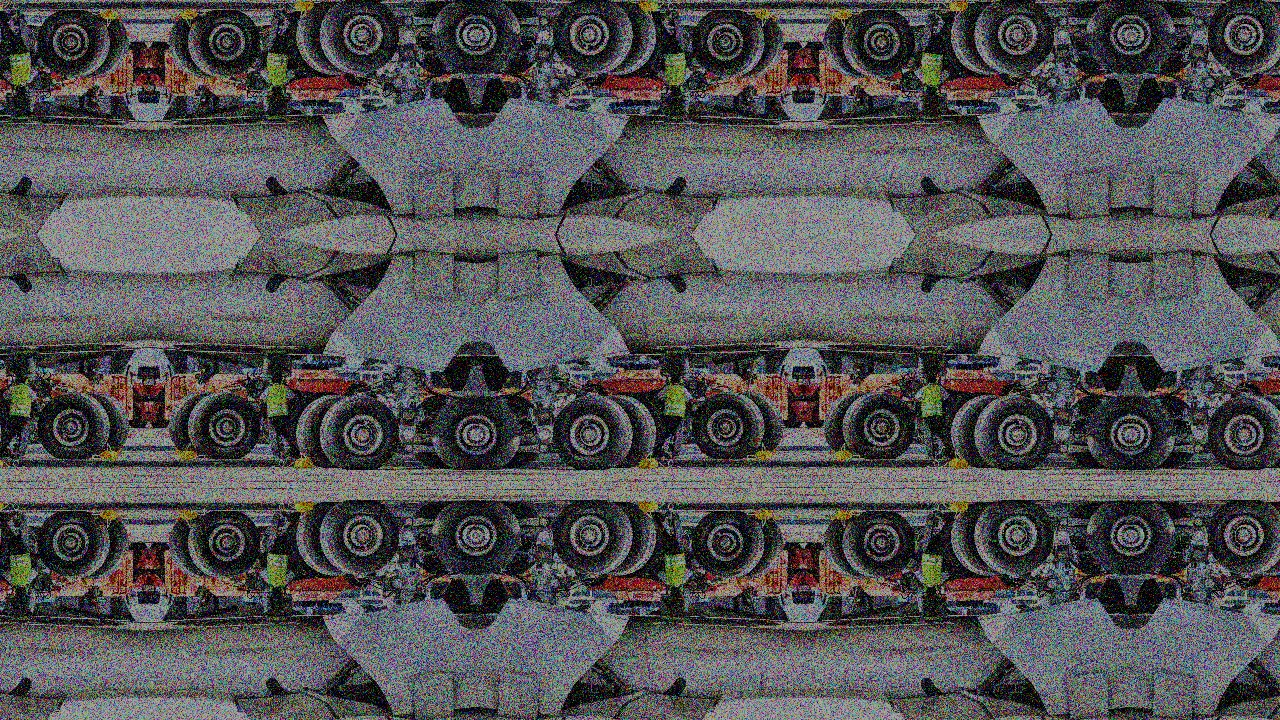chock: (948, 456, 970, 470), (948, 501, 970, 515), (293, 456, 314, 470), (638, 456, 659, 470), (293, 501, 314, 515), (638, 501, 659, 515), (948, 0, 970, 13), (293, 0, 314, 13), (638, 0, 659, 13), (98, 8, 118, 19), (834, 8, 854, 19), (98, 450, 118, 461), (834, 450, 854, 461), (98, 510, 118, 521), (834, 510, 854, 521), (179, 8, 198, 19), (754, 8, 773, 19), (179, 450, 198, 461), (754, 450, 773, 461), (179, 510, 198, 521), (754, 510, 773, 521), (0, 456, 4, 470), (0, 501, 4, 515), (0, 0, 4, 13)
wheel: (316, 502, 399, 577), (553, 502, 636, 577), (971, 502, 1054, 577), (316, 1, 399, 75), (553, 1, 636, 75), (971, 1, 1054, 75), (316, 394, 399, 468), (553, 394, 636, 468), (971, 394, 1054, 468), (1209, 502, 1280, 577), (1209, 1, 1280, 75), (1209, 394, 1280, 468), (36, 512, 109, 580), (187, 512, 260, 580), (692, 512, 765, 580), (843, 512, 916, 580), (36, 11, 109, 78), (187, 11, 260, 78), (692, 11, 765, 78), (843, 11, 916, 78), (36, 391, 109, 458), (187, 391, 260, 458), (692, 391, 765, 458), (843, 391, 916, 458), (949, 3, 1009, 76), (949, 394, 1009, 467), (949, 504, 1009, 577), (294, 3, 353, 76), (599, 3, 658, 76), (294, 394, 353, 467), (599, 394, 658, 467), (294, 504, 353, 577), (599, 504, 658, 577), (412, 394, 460, 468), (492, 394, 540, 468), (1067, 394, 1115, 468), (1148, 394, 1196, 468), (412, 2, 460, 75), (492, 2, 540, 75), (1067, 2, 1115, 75), (1148, 2, 1196, 75), (412, 503, 460, 576), (492, 503, 540, 576), (1067, 503, 1115, 576), (1148, 503, 1196, 576), (429, 503, 476, 576), (476, 503, 523, 576), (1131, 503, 1178, 576), (429, 2, 476, 74), (476, 2, 523, 74), (1131, 2, 1178, 74), (429, 395, 476, 467), (476, 395, 523, 467), (1131, 395, 1178, 467), (1085, 503, 1131, 576), (1085, 2, 1131, 74), (1085, 395, 1131, 467), (81, 391, 129, 455), (168, 391, 216, 455), (736, 391, 784, 455), (823, 391, 871, 455), (81, 516, 129, 580), (168, 516, 216, 580), (736, 516, 784, 580), (823, 516, 871, 580), (81, 15, 129, 78), (168, 15, 216, 78), (736, 15, 784, 78), (823, 15, 871, 78), (1254, 3, 1280, 76), (1254, 394, 1280, 467), (1254, 504, 1280, 577), (128, 405, 147, 428), (805, 405, 824, 428), (343, 383, 371, 398), (581, 383, 609, 398), (999, 383, 1027, 398), (1236, 383, 1264, 398), (343, 573, 371, 588), (581, 573, 609, 588), (999, 573, 1027, 588), (1236, 573, 1264, 588), (128, 42, 147, 64), (805, 42, 824, 64), (128, 543, 147, 565), (805, 543, 824, 565), (150, 405, 168, 428), (784, 405, 802, 428), (150, 42, 168, 64), (784, 42, 802, 64), (150, 543, 168, 565), (784, 543, 802, 565), (343, 72, 371, 86), (581, 72, 609, 86), (999, 72, 1027, 86), (1236, 72, 1264, 86)
